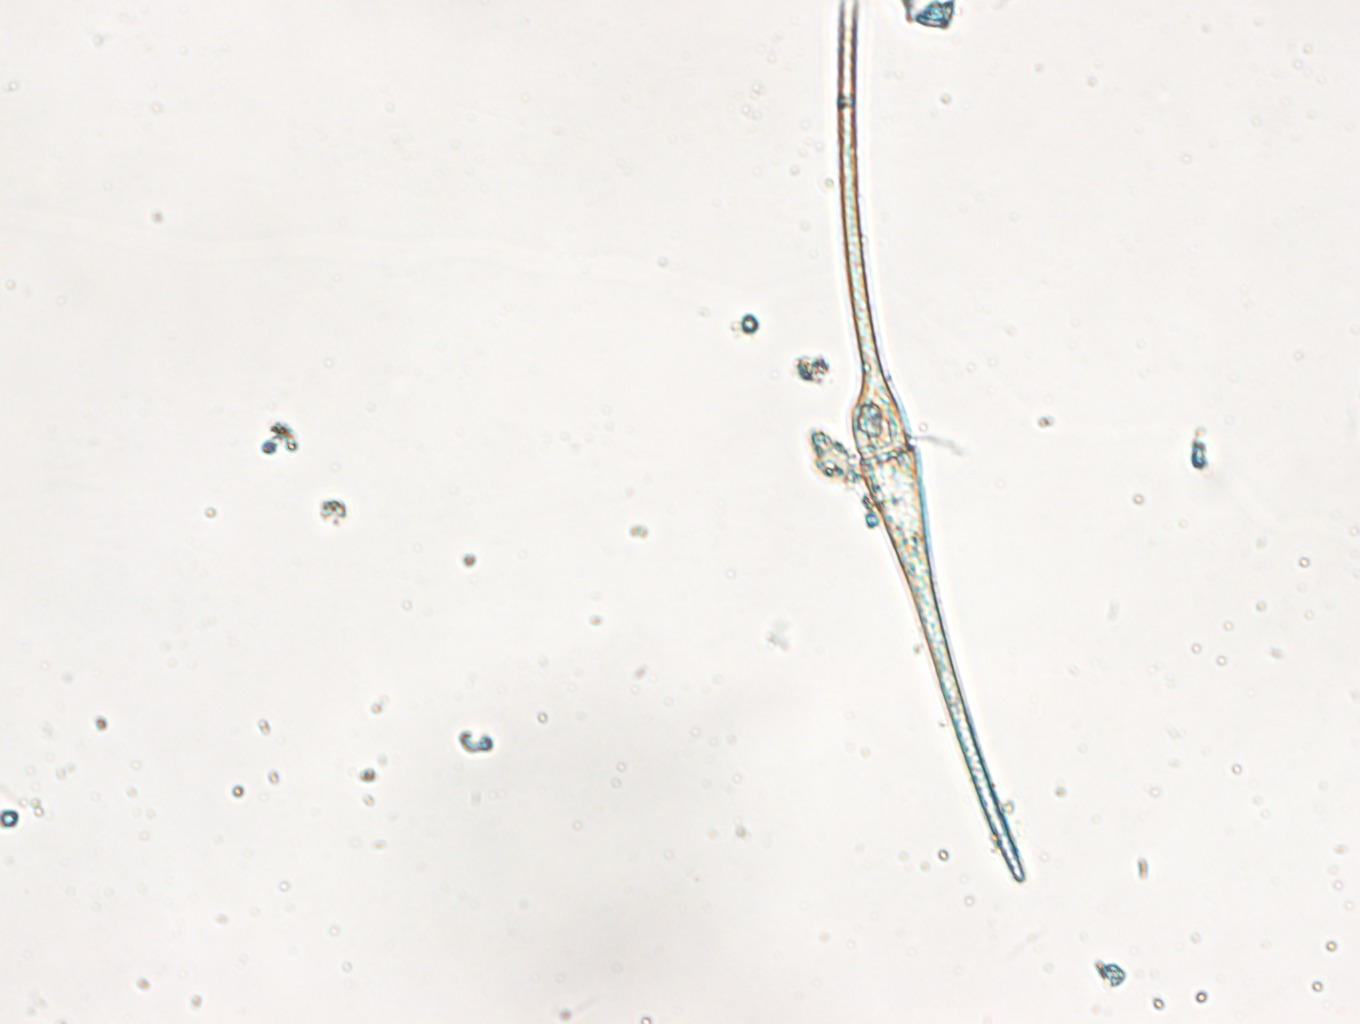ceratium fusus: (839, 1, 1027, 885)
